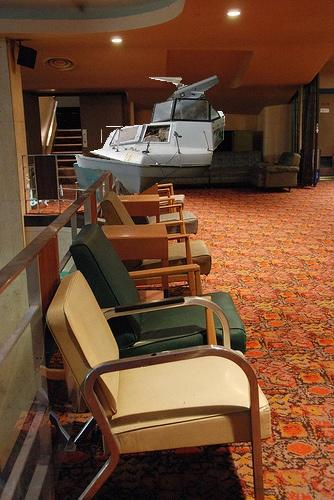tampered: (76, 76, 225, 193)
